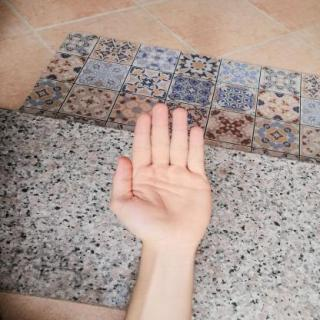SEEN: (100, 96, 219, 259)
